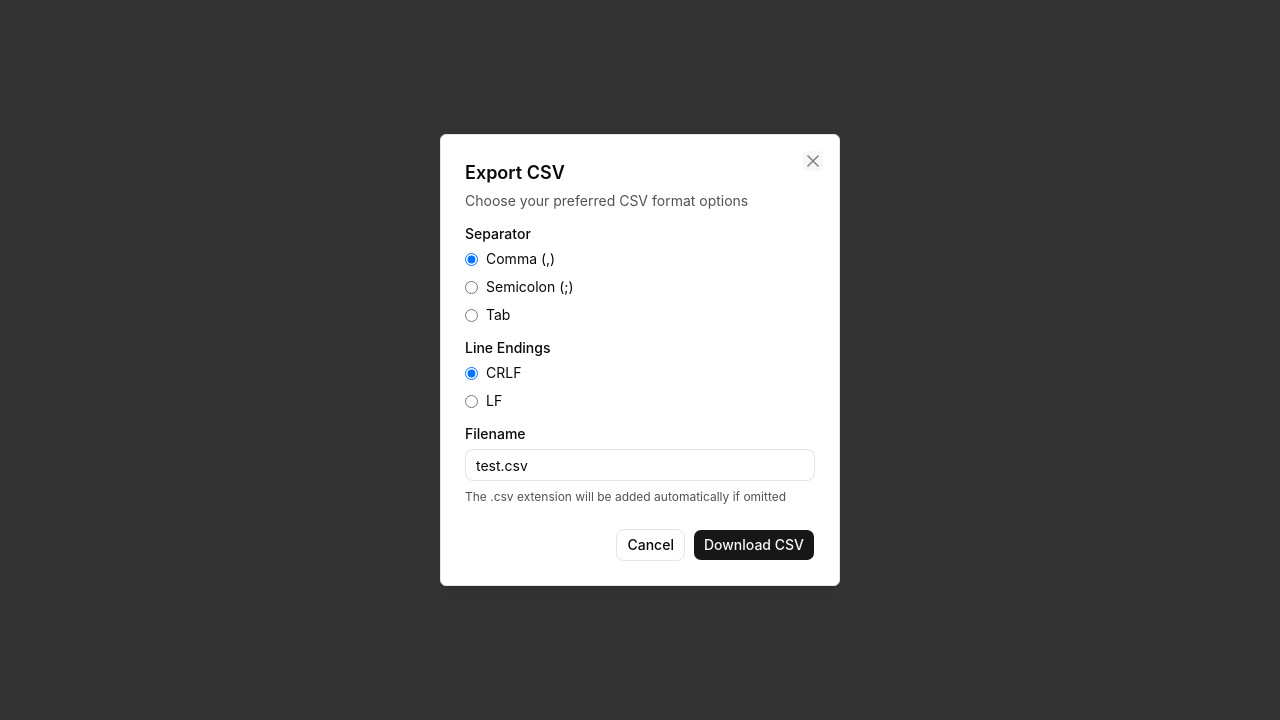
it: CsvExportModal › line endings radio group › lf radio can be selected
Click the radio button with test id "csv-line-endings-lf".
click(472, 401)  # box [465,394,478,408]
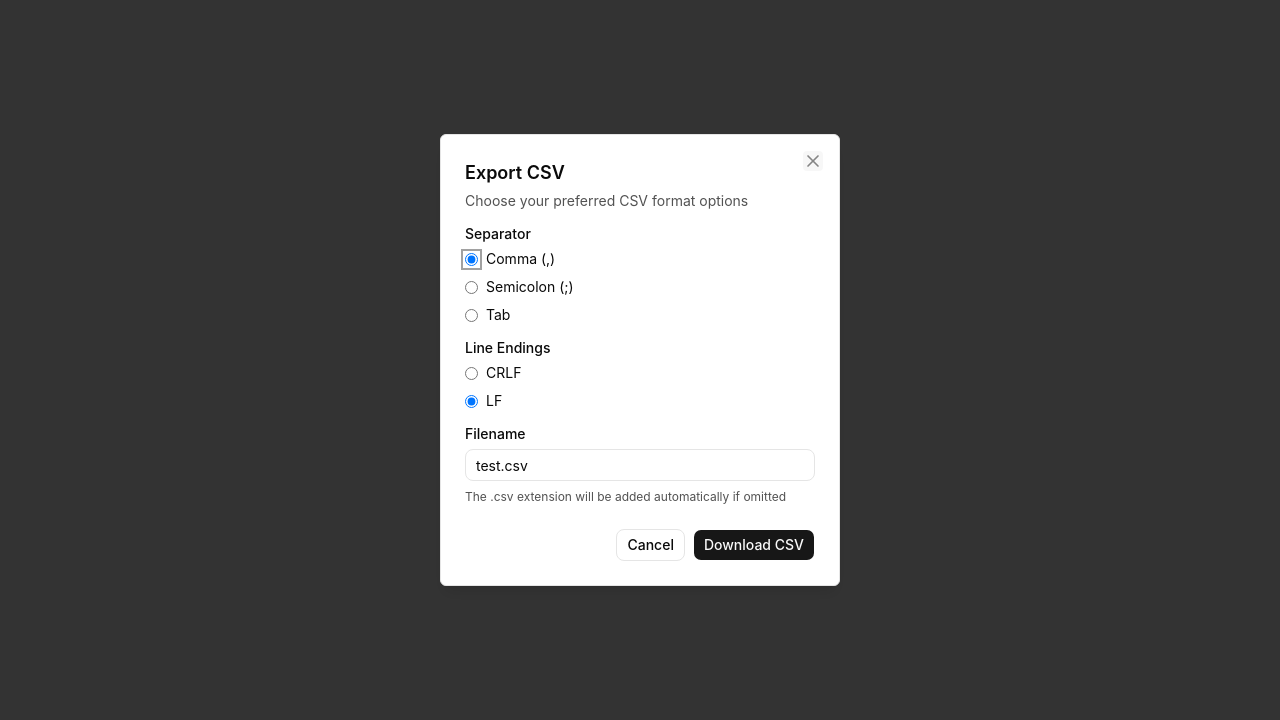
Expected: the radio button with test id "csv-line-endings-lf" is checked, [465,394,478,408]
Expected: the radio button with test id "csv-line-endings-crlf" is not checked, [465,366,478,380]
